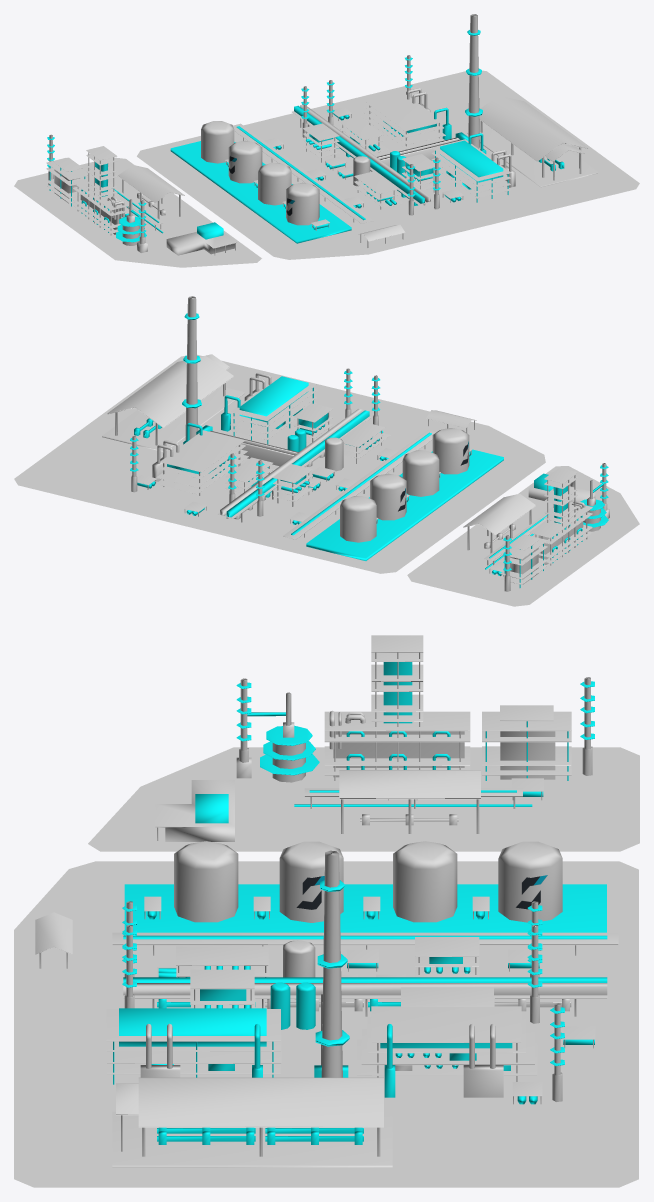
The model's file is refinery_light.gltf.
The picture shows the model from 3 angles, top to bottom: view 1: azimuth 30°, elevation 25°; view 2: azimuth 150°, elevation 25°; view 3: azimuth 270°, elevation 25°; orthographic projection. The views are drawn at different scales.
Parts seen in each view (by area): view 1: refinery-light_gray, refinery-blue; view 2: refinery-light_gray, refinery-blue; view 3: refinery-light_gray, refinery-blue.
Part boxes in pixels (x1,y1,x2,y2): refinery-light_gray: (14,14,639,267); refinery-blue: (47,30,564,243); refinery-light_gray: (14,296,639,606); refinery-blue: (130,313,608,587); refinery-light_gray: (14,635,639,1187); refinery-blue: (113,662,607,1144).
Size of the model in its own units: 141 by 37.9 by 84.79.
4 materials, 1 textured.
